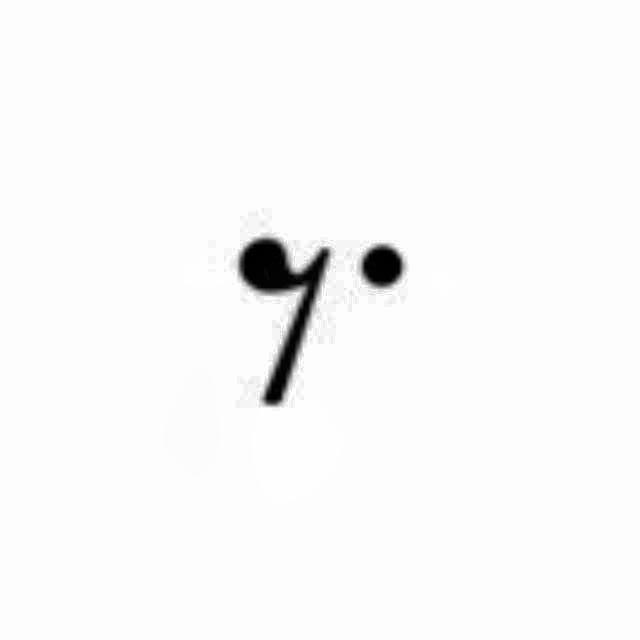Eighth-rest: (217, 219, 427, 409)
